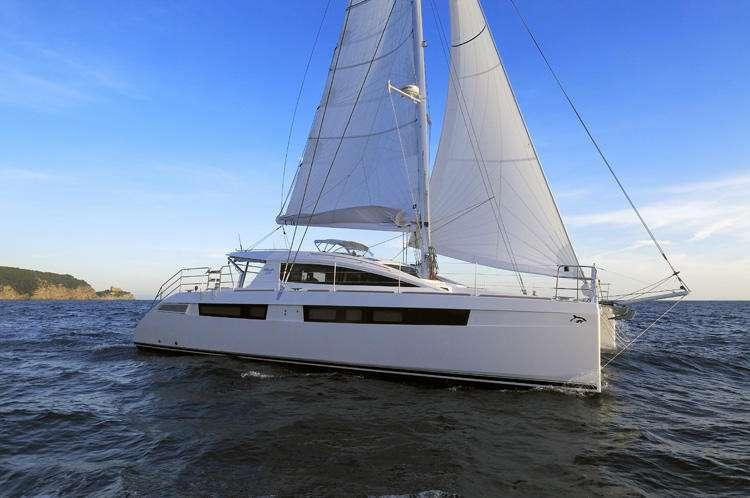fanchuan: (133, 1, 694, 388)
